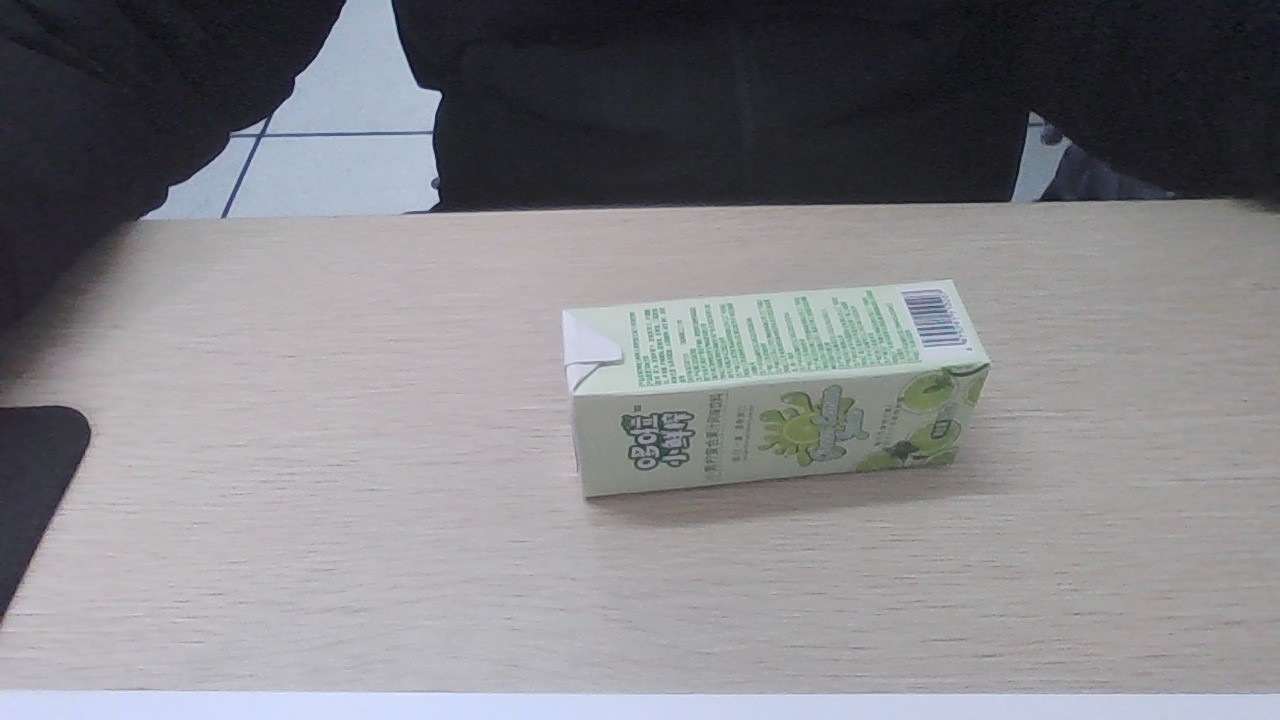CY-drink: (555, 291, 984, 484)
